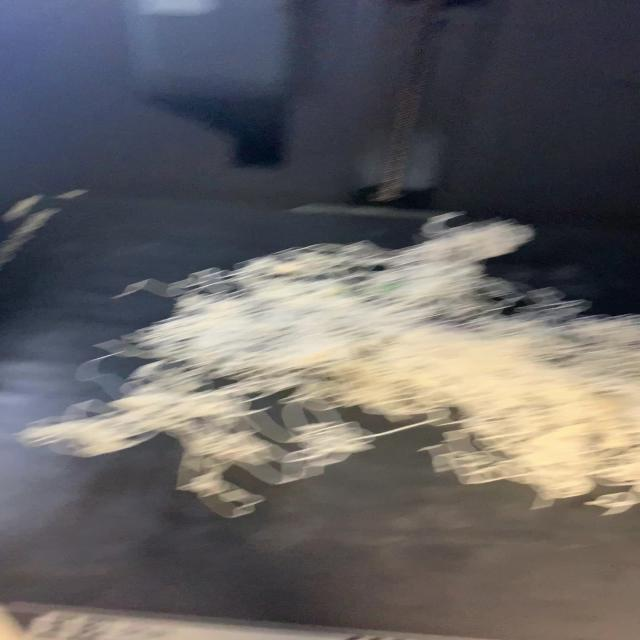spaghetti: (15, 209, 637, 521)
